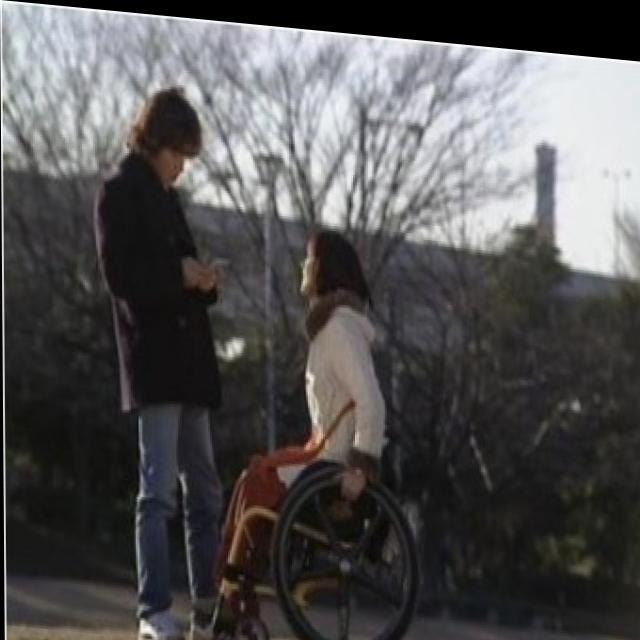wheelchair: (214, 213, 420, 640)
